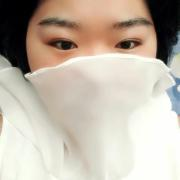OK: (32, 14, 155, 137)
